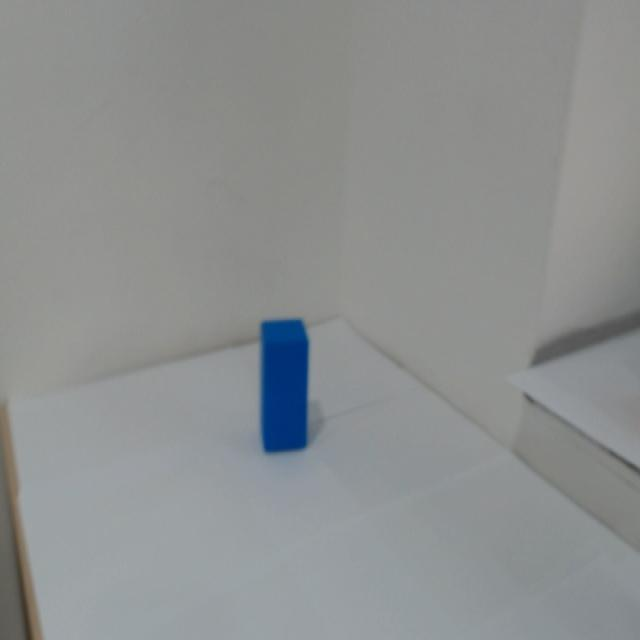cube: (232, 279, 329, 459)
